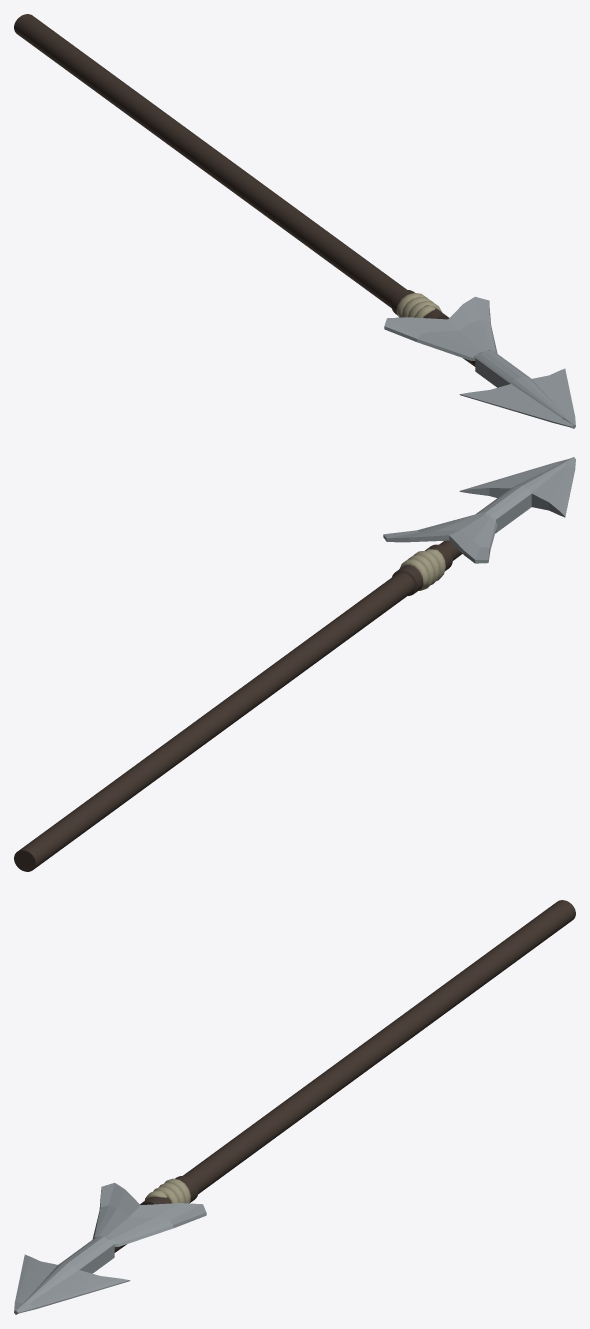
Rendered from HarpoonPrototype.fbx.
The picture shows the model from 3 angles, top to bottom: view 1: azimuth 30°, elevation 25°; view 2: azimuth 150°, elevation 25°; view 3: azimuth 330°, elevation 25°; orthographic projection.
Visible parts, largest first — view 1: Cylinder.002, Cone, Spiral; view 2: Cylinder.002, Cone, Spiral; view 3: Cylinder.002, Cone, Spiral.
Boxes of the visible parts, x1,y1,x2,y2 form: Cylinder.002: (14, 14, 475, 366); Cone: (384, 296, 575, 428); Spiral: (396, 293, 441, 317); Cylinder.002: (14, 540, 462, 871); Cone: (383, 457, 575, 563); Spiral: (399, 549, 445, 590); Cylinder.002: (114, 900, 575, 1252); Cone: (14, 1182, 206, 1314); Spiral: (145, 1178, 190, 1203).
Size of the model in its own units: 51.18 by 14.81 by 460.
